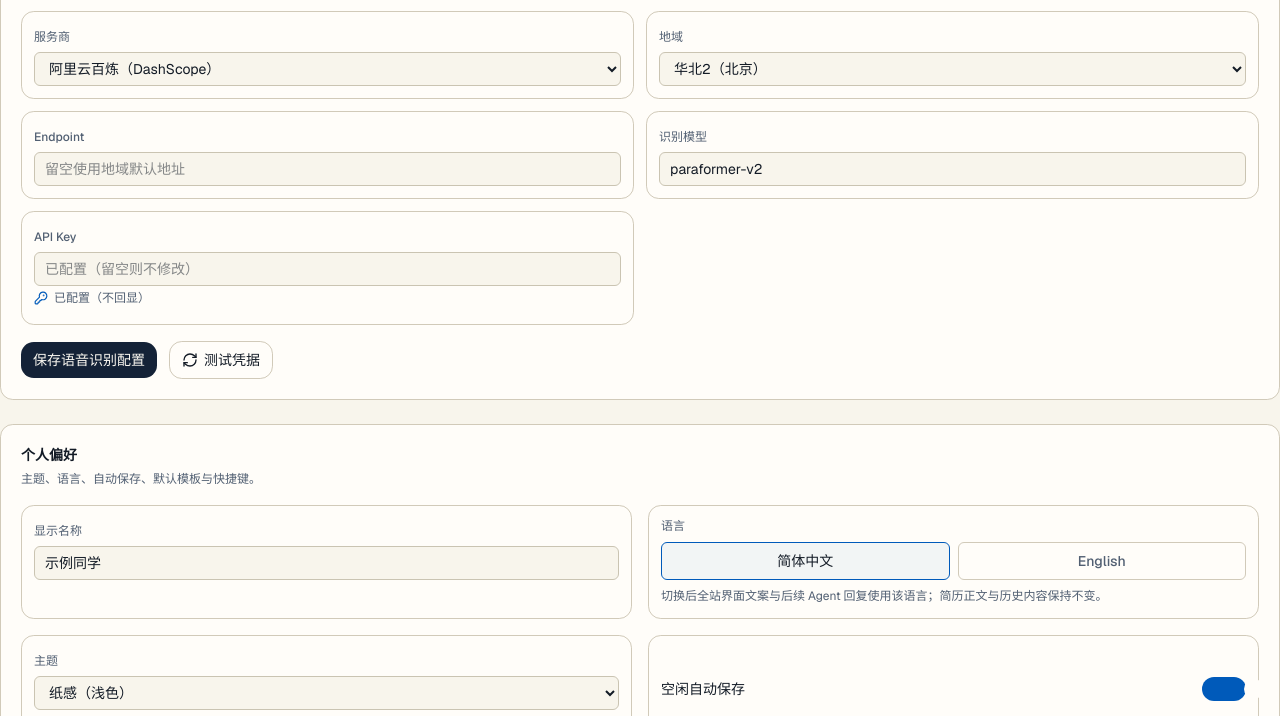
Test: SettingsForm 语音识别配置 › 测试凭据失败时显示后端安全文案，不显示成功文案
(page scrolled)
Step 1. Click the button "测试凭据" → (221, 360), box [169,341,273,379]
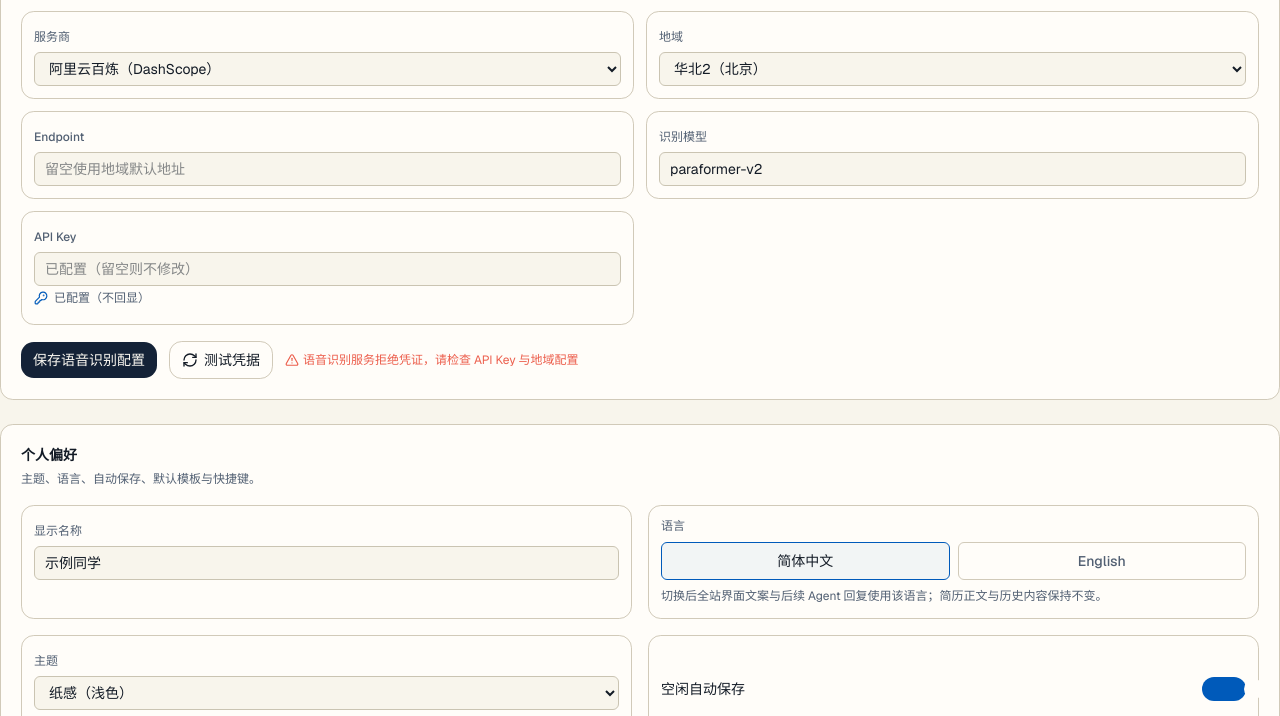
Expected: the text "语音识别服务拒绝凭证，请检查 API Key 与地域配置" is shown, [285,352,579,368]
